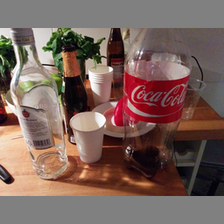soda: (123, 28, 193, 181)
